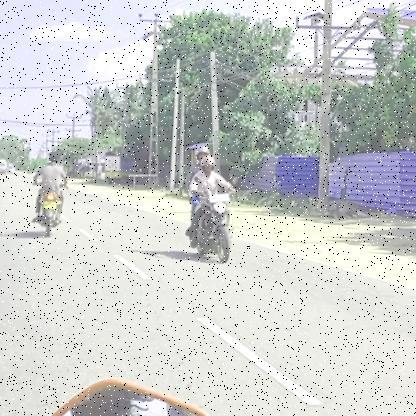motorcycle: (183, 190, 245, 270), (29, 191, 68, 246)
